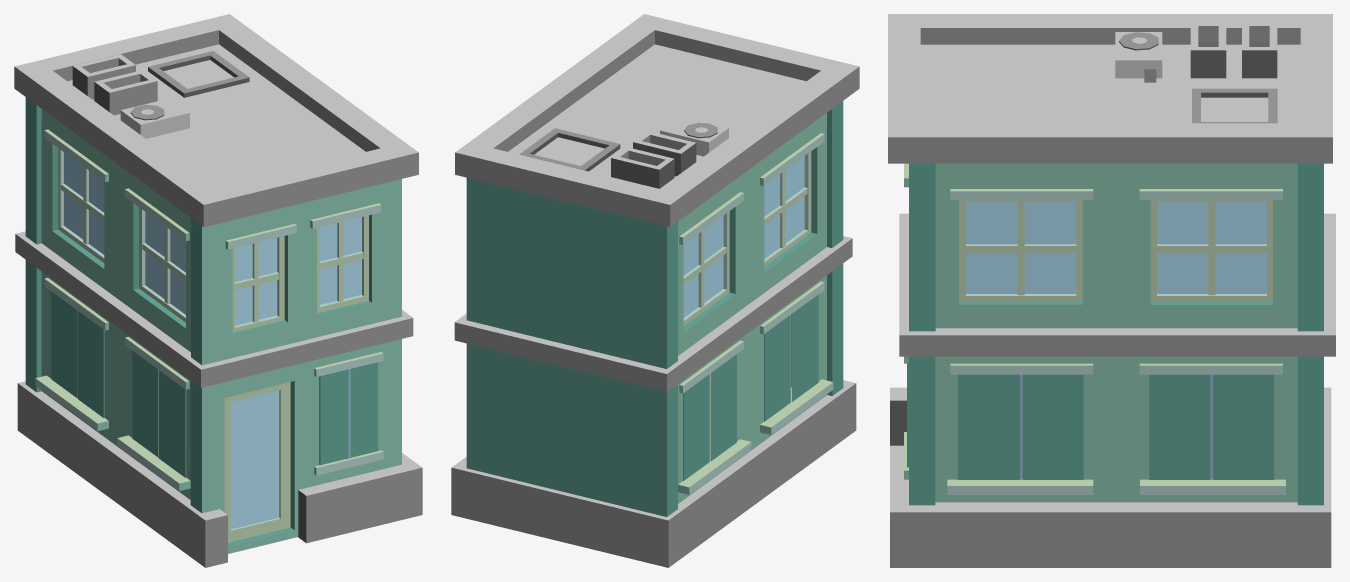
File: house_small_1_001.fbx
The picture shows the model from 3 angles, left to right: view 1: azimuth 30°, elevation 25°; view 2: azimuth 150°, elevation 25°; view 3: azimuth 270°, elevation 25°; orthographic projection. The views are drawn at different scales.
Parts seen in each view (by area): view 1: house_small_1_001; view 2: house_small_1_001; view 3: house_small_1_001.
Part boxes in pixels (left/top/right/bottom): house_small_1_001: left=14, top=14, right=422, bottom=567; house_small_1_001: left=451, top=14, right=859, bottom=567; house_small_1_001: left=888, top=14, right=1335, bottom=567.
Bounding box in the file's own units: 361 × 587 × 542.
